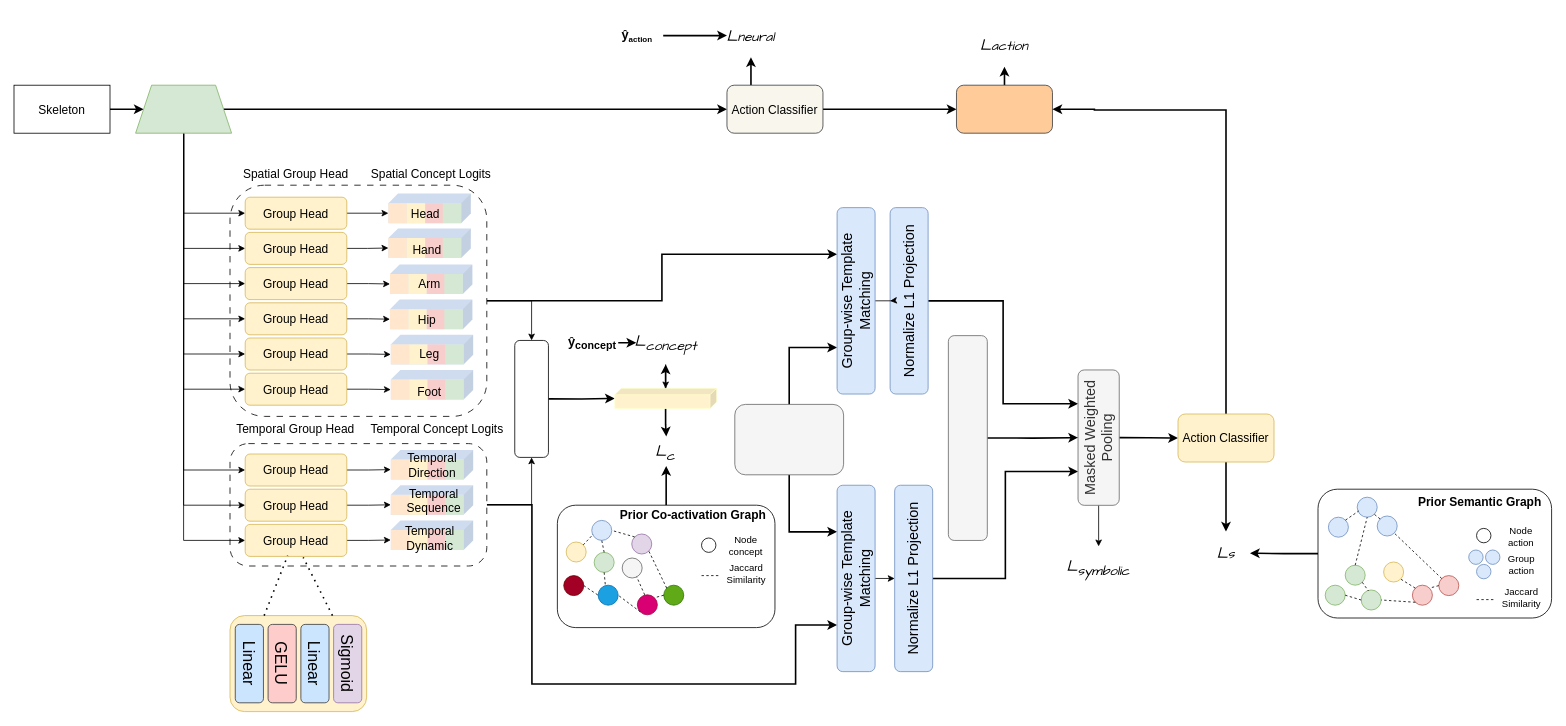
Some shapes in this 1566 by 726 pixel diagram are drawn without their labels. The centre of each missing label's shape, as x and y in pixels:
Concat: point 531,398
Fusion Layer: point 1004,108
Group Learnable Parameter: point 967,437
Knowledge Template: point 789,439
Neural Backbone: point 183,108
